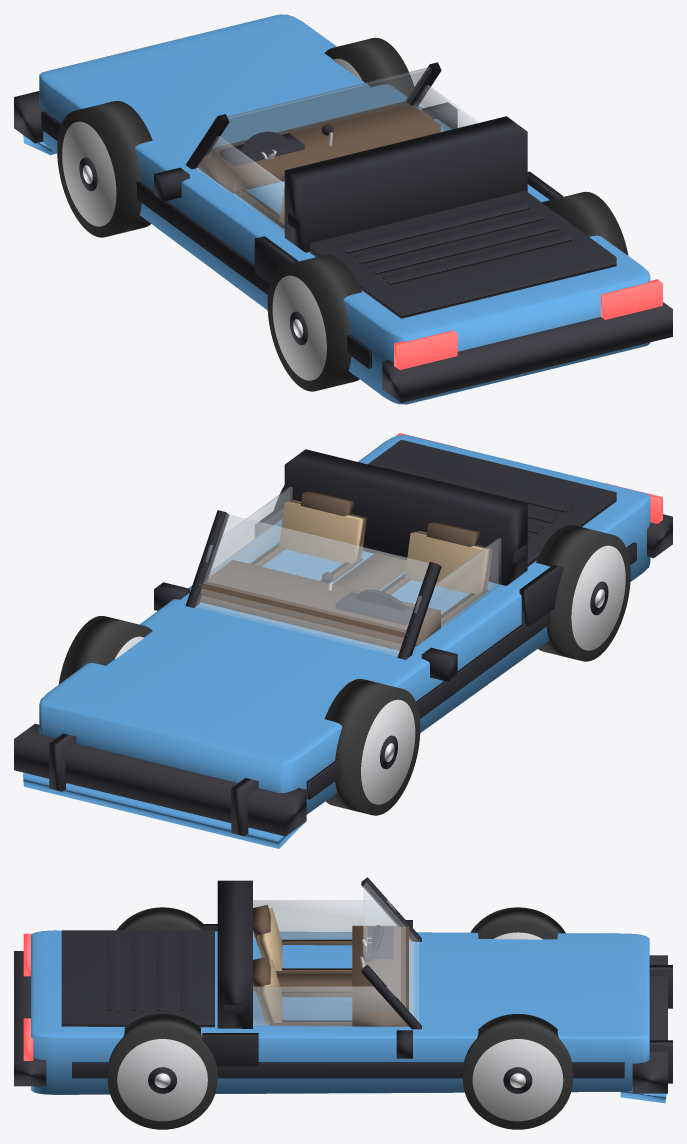
Rendered from karoo_vonk.glb.
3 views of the same model, one above another, from view 1: azimuth 30°, elevation 25°; view 2: azimuth 150°, elevation 25°; view 3: azimuth 270°, elevation 25° (orthographic). The views are drawn at different scales.
Visible parts, largest first — view 1: Body_Wedge_Hull, Roof_Targa_B_Pillar, Engine_Deck_Lid, Rear_Bumper_Black, Interior_Dash_Main, Glass_Windshield, Wheel_FL_Tire, Wheel_RL_Tire, Glass_Side_Window_Left, Wheel_FL_Rim_Lip, Wheel_RL_Rim_Lip, Side_Black_Stripe_-0.8 (+17 smaller); view 2: Body_Wedge_Hull, Glass_Windshield, Roof_Targa_B_Pillar, Front_Bumper_Bar_Black, Interior_Dash_Main, Engine_Deck_Lid, Wheel_FL_Tire, Wheel_RL_Tire, Seat_Backrest_0.38, Glass_Side_Window_Left, Wheel_RL_Rim_Lip, Wheel_FL_Rim_Lip (+18 smaller); view 3: Body_Wedge_Hull, Engine_Deck_Lid, Glass_Side_Window_Right, Side_Black_Stripe_0.8, Wheel_FR_Rim_Lip, Wheel_RR_Rim_Lip, Roof_Targa_B_Pillar, Wheel_FR_Tire, Wheel_RR_Tire, Glass_Windshield, Interior_Dash_Main, Glass_Side_Window_Left (+27 smaller).
Boxes of the visible parts, x1,y1,x2,y2 form: Body_Wedge_Hull: (39, 14, 650, 404); Roof_Targa_B_Pillar: (284, 116, 527, 252); Engine_Deck_Lid: (310, 190, 616, 318); Rear_Bumper_Black: (382, 302, 672, 402); Interior_Dash_Main: (199, 101, 440, 193); Glass_Windshield: (212, 67, 431, 149); Wheel_FL_Tire: (57, 101, 152, 237); Wheel_RL_Tire: (267, 255, 361, 391); Glass_Side_Window_Left: (196, 136, 284, 231); Wheel_FL_Rim_Lip: (62, 121, 116, 226); Wheel_RL_Rim_Lip: (272, 275, 326, 380); Side_Black_Stripe_-0.8: (41, 111, 371, 368); Body_Wedge_Hull: (39, 435, 650, 814); Glass_Windshield: (195, 514, 428, 655); Roof_Targa_B_Pillar: (284, 449, 527, 585); Front_Bumper_Bar_Black: (14, 723, 306, 836); Interior_Dash_Main: (199, 560, 440, 650); Engine_Deck_Lid: (368, 439, 616, 566); Wheel_FL_Tire: (324, 679, 420, 815); Wheel_RL_Tire: (536, 525, 630, 661); Seat_Backrest_0.38: (279, 500, 366, 563); Glass_Side_Window_Left: (414, 538, 500, 648); Wheel_RL_Rim_Lip: (571, 545, 625, 650); Wheel_FL_Rim_Lip: (361, 699, 415, 804); Body_Wedge_Hull: (31, 930, 649, 1094); Engine_Deck_Lid: (61, 930, 214, 1027); Glass_Side_Window_Right: (253, 986, 408, 1026); Side_Black_Stripe_0.8: (72, 1062, 624, 1078); Wheel_FR_Rim_Lip: (472, 1039, 563, 1121); Wheel_RR_Rim_Lip: (117, 1039, 207, 1121); Roof_Targa_B_Pillar: (217, 880, 252, 1028); Wheel_FR_Tire: (463, 1014, 572, 1129); Wheel_RR_Tire: (107, 1014, 217, 1129); Glass_Windshield: (363, 883, 418, 1021); Interior_Dash_Main: (352, 925, 408, 1026); Glass_Side_Window_Left: (253, 900, 409, 940).
Size of the model in its own units: 1.82 by 0.9956 by 4.08.
